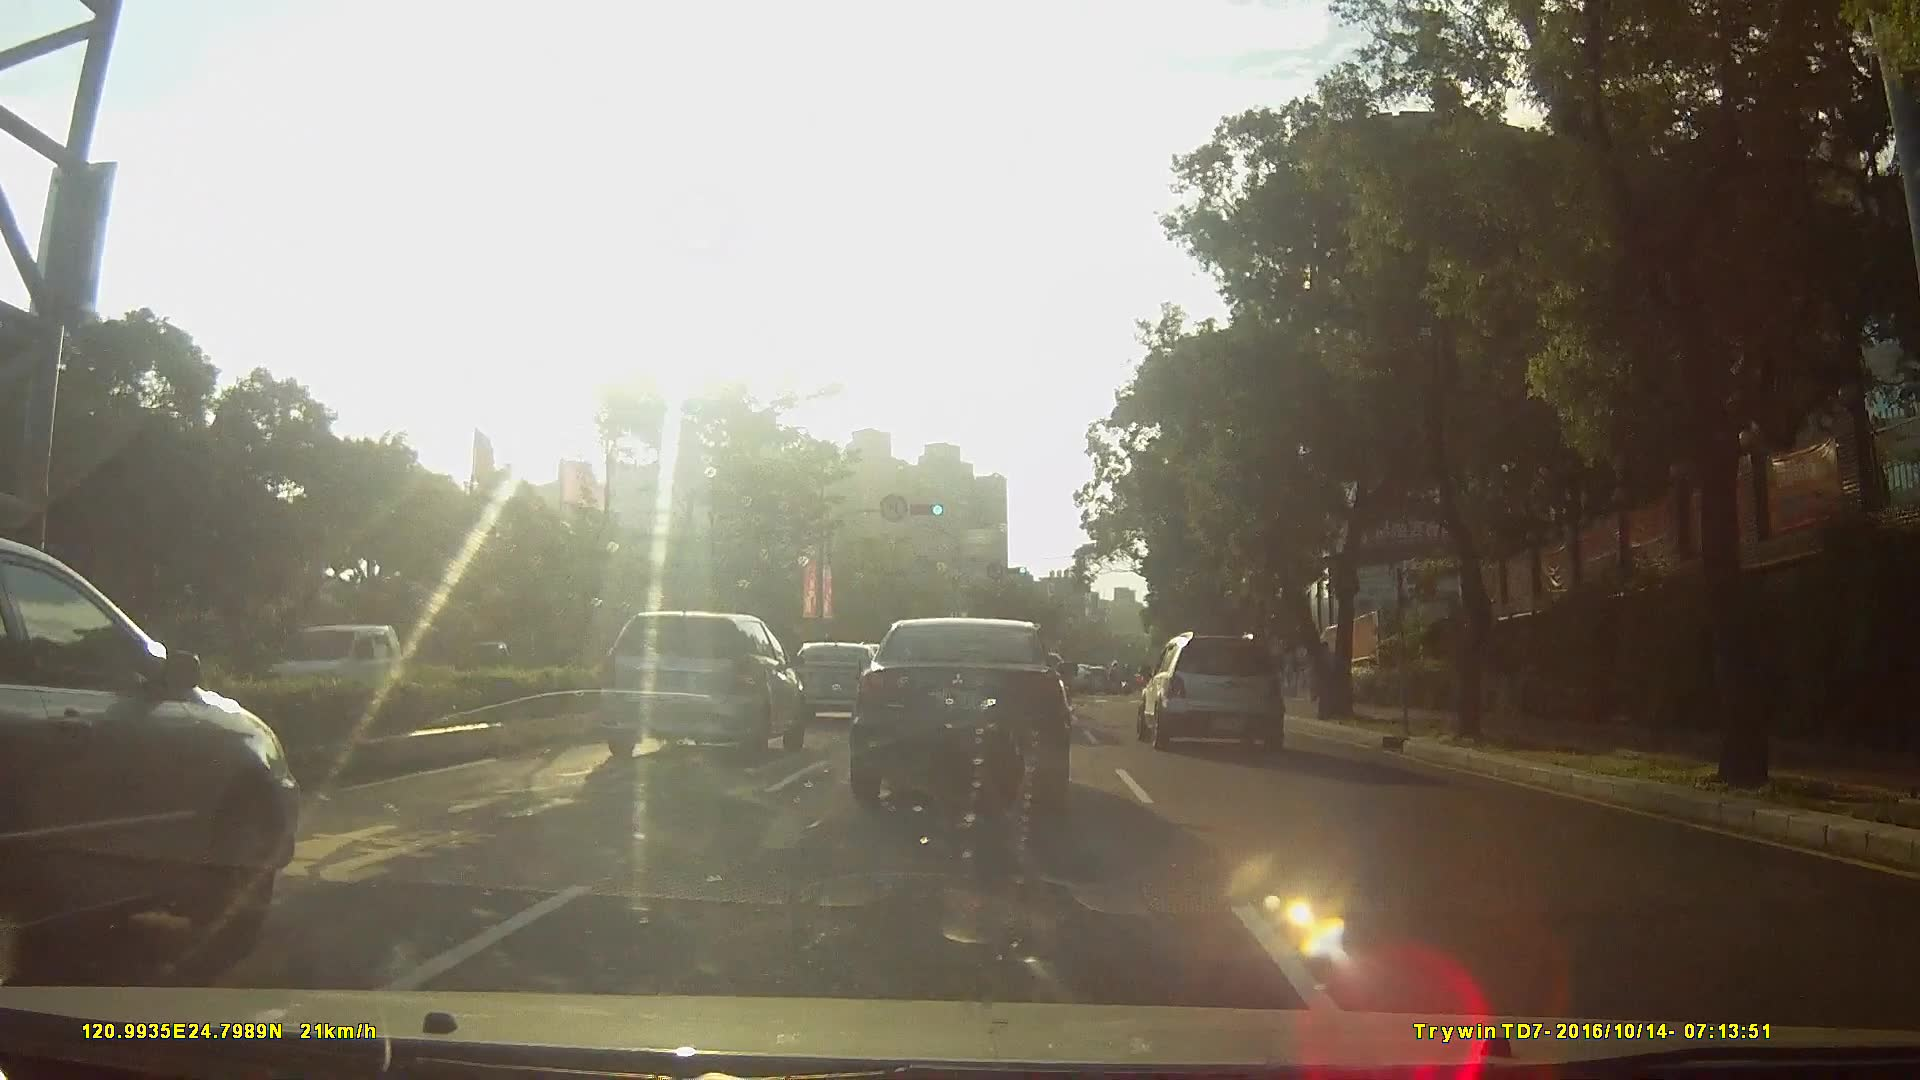vehicle: (1, 537, 323, 994), (851, 617, 1073, 818), (589, 608, 802, 758), (1135, 622, 1298, 745), (261, 624, 410, 708), (781, 637, 895, 720), (1073, 662, 1108, 694)
